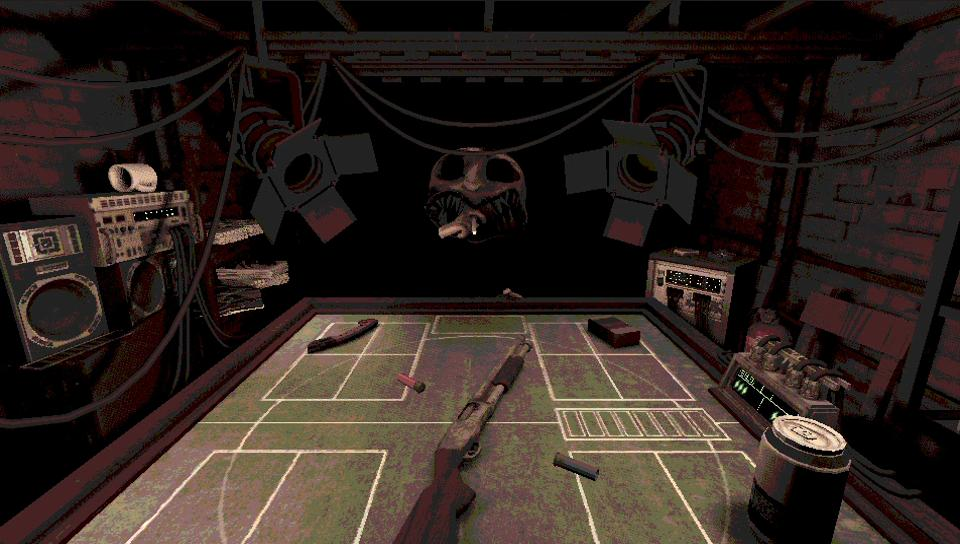ally: (63, 407, 905, 543)
can: (745, 416, 848, 543)
cigar: (587, 315, 641, 346)
doubledamage: (307, 317, 379, 352)
emptyspace: (127, 451, 303, 541), (566, 449, 714, 543), (252, 448, 389, 543), (262, 353, 364, 400), (538, 350, 623, 399), (609, 351, 694, 400), (336, 354, 417, 400), (362, 322, 426, 354), (533, 320, 593, 353)
enemyspace: (208, 306, 752, 409)
gun: (385, 335, 528, 543)
